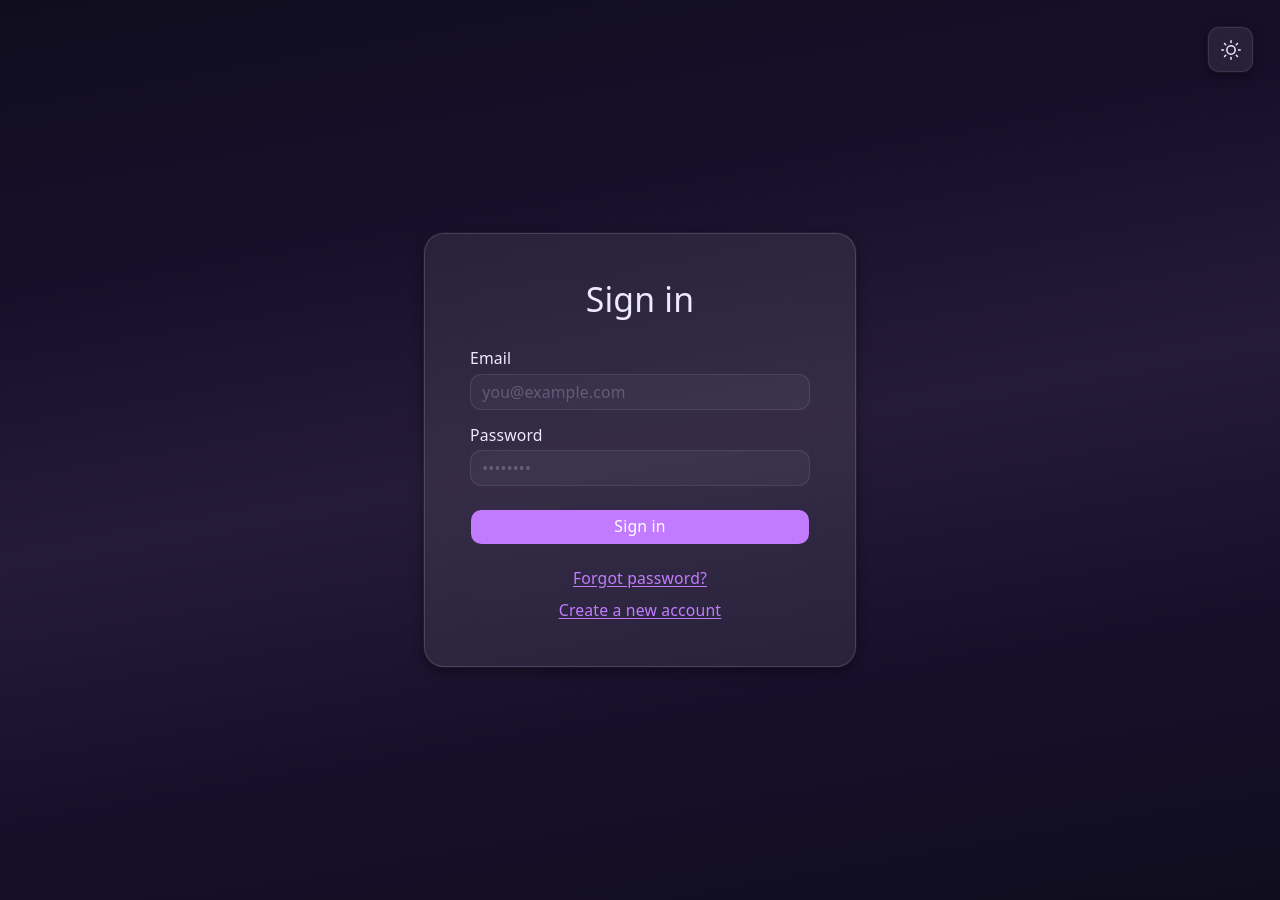
Test case: LoginPage › shows an error message when login fails
This screenshot has width=1280, height=900.
In the field labelled "Email": {"x": 640, "y": 392} [470, 374, 810, 410], type "test@example.com"
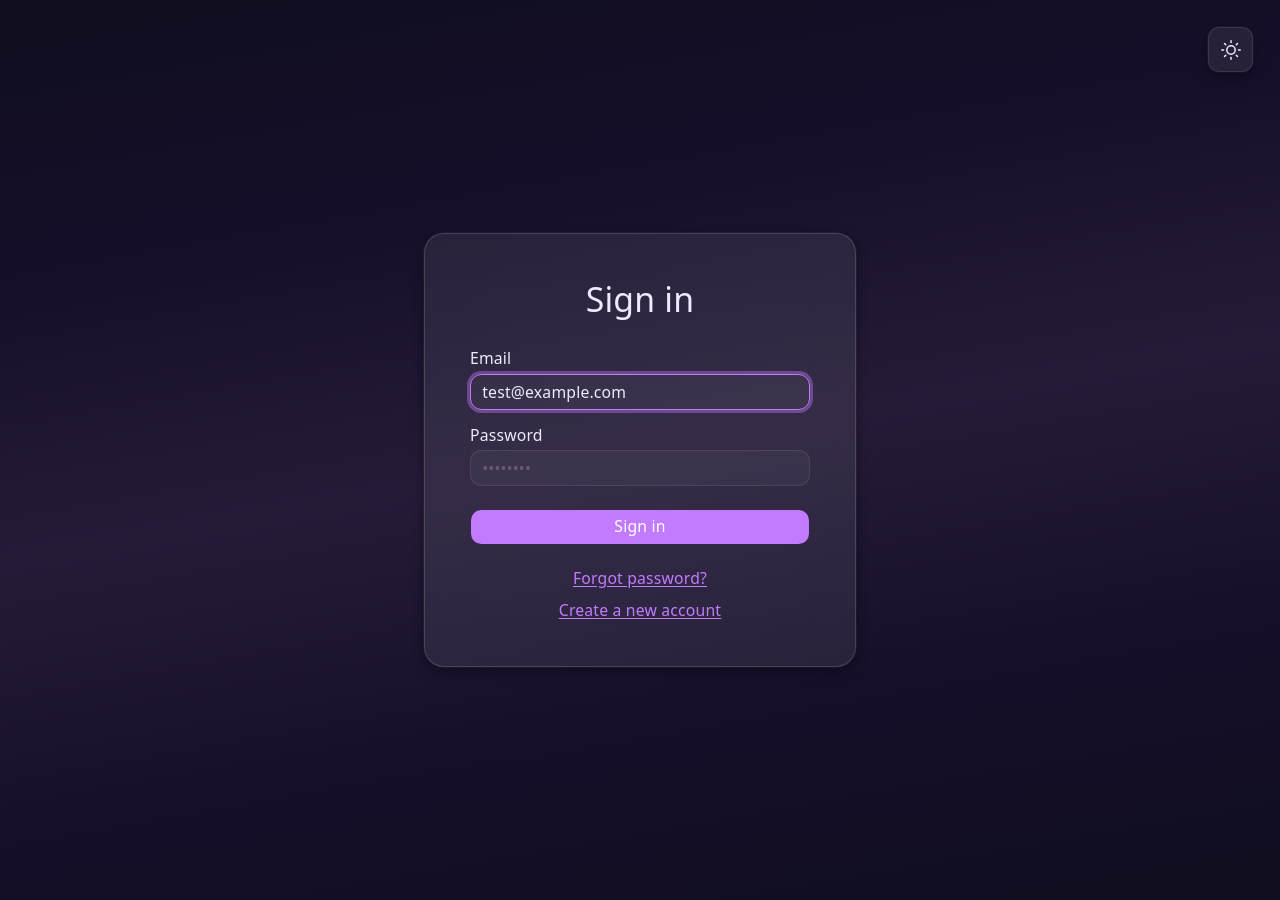
In the password field labelled "Password": {"x": 640, "y": 468} [470, 450, 810, 486], type "wrongpassword"
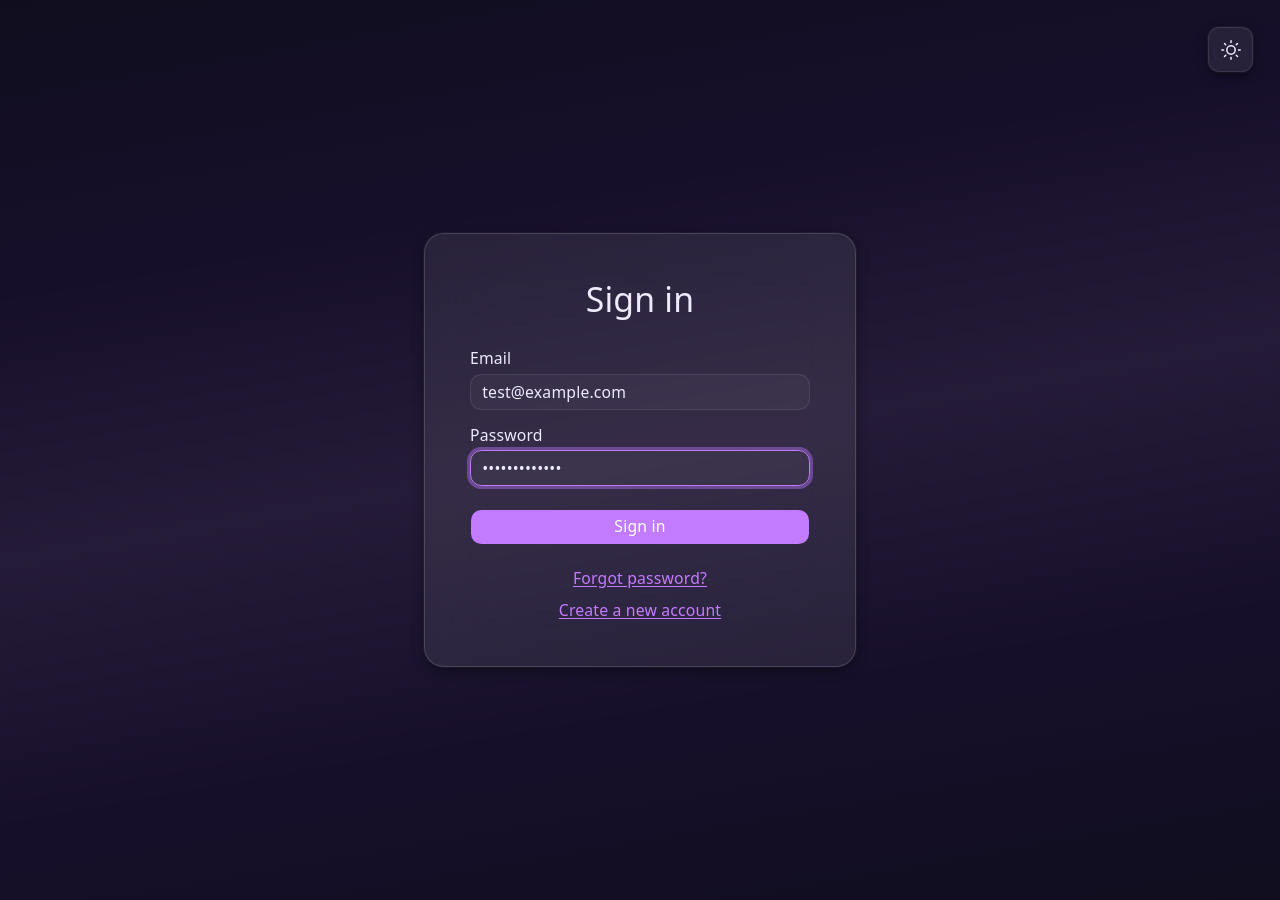
Click the button "Sign in": {"x": 640, "y": 526} [470, 508, 810, 544]
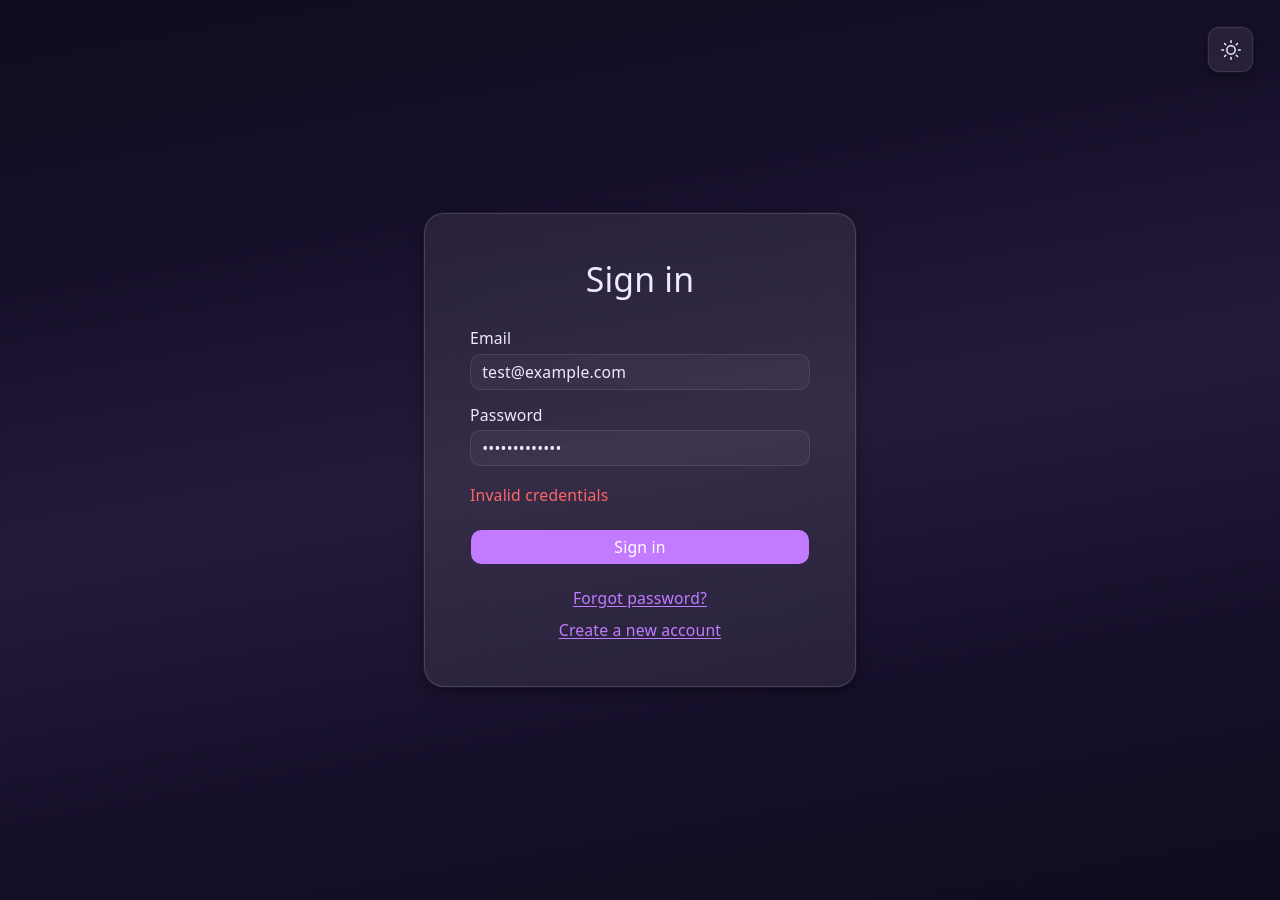
Expected: the message reads "Invalid credentials", [470, 484, 608, 506]
